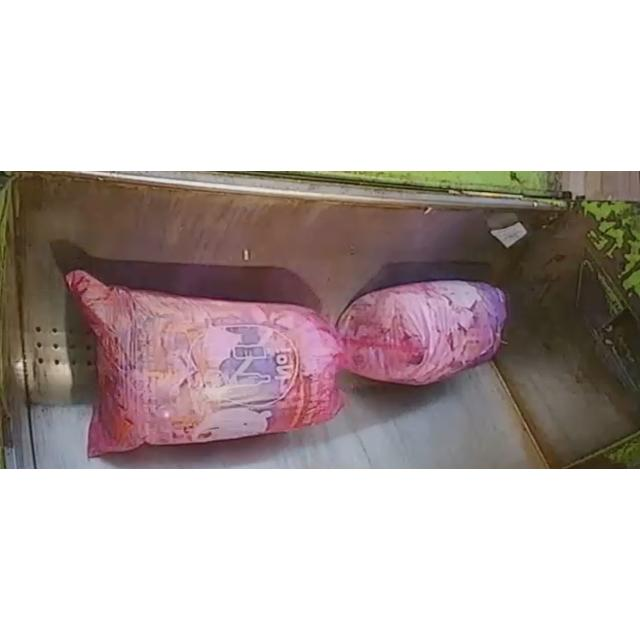other_trashbag: (68, 271, 341, 456), (338, 280, 506, 386)
